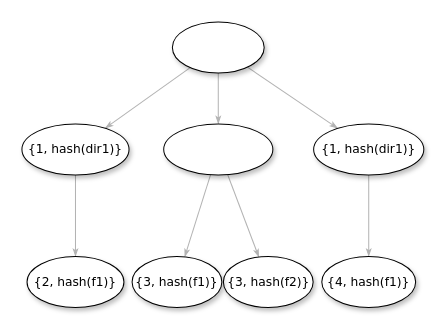
This 448x333 diagram has some shape labels left out. Here are the shapes that lost their labels. From the top down, the centre of each, then its label:
At point 218,48: "{0, hash(/)}".
At point 219,150: "{1, hash(dir2)}".
